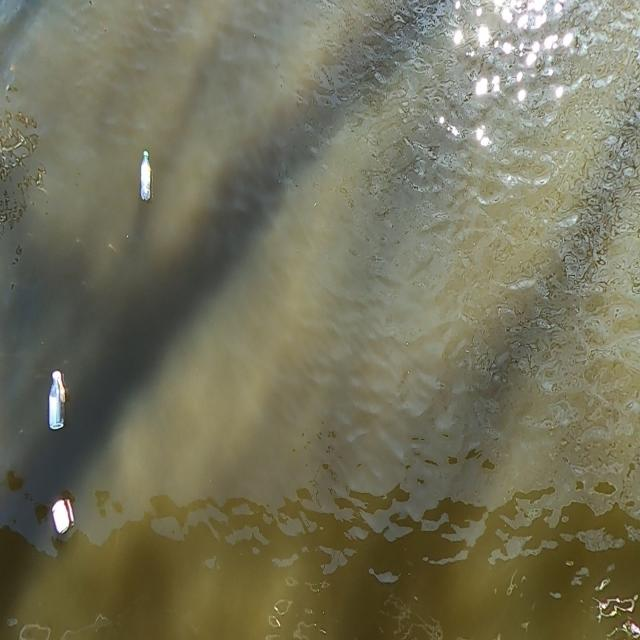Bouteille plastique: (45, 363, 66, 433), (138, 150, 158, 213)
